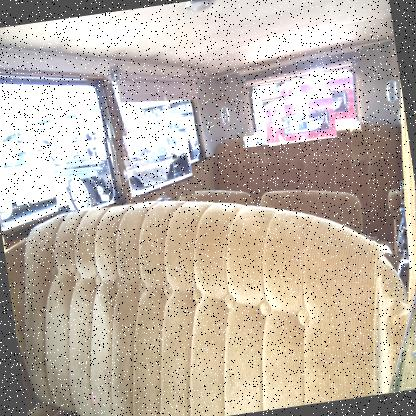Car: (0, 0, 415, 415), (48, 126, 196, 214), (0, 148, 79, 233), (261, 89, 338, 147), (242, 133, 269, 148)
